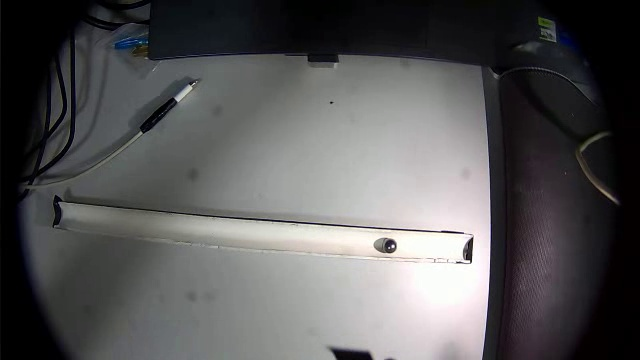gangzhu: (383, 237, 415, 271)
